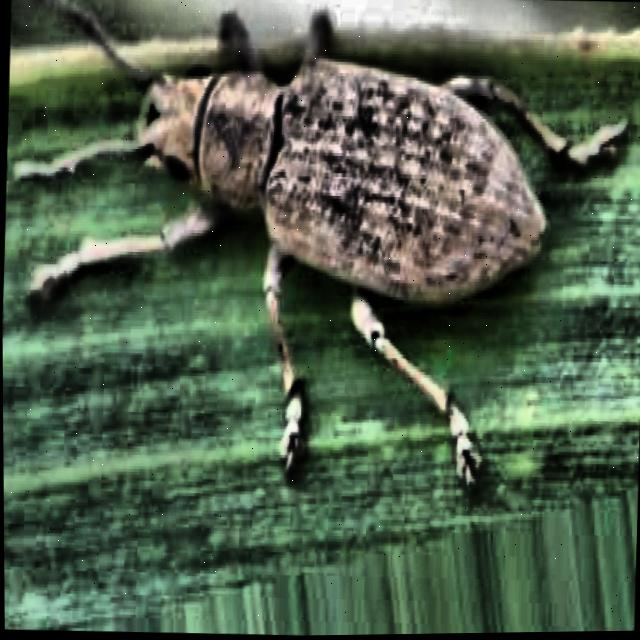Stink bug: (18, 0, 559, 445)
